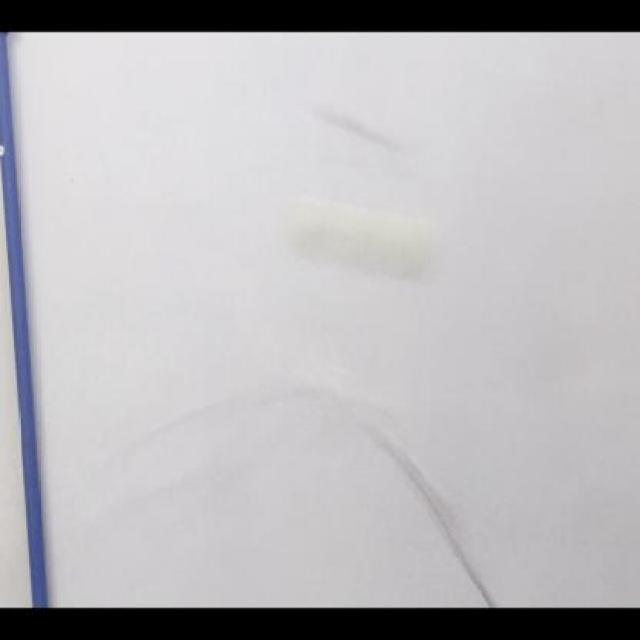baseball: (288, 185, 442, 282)
